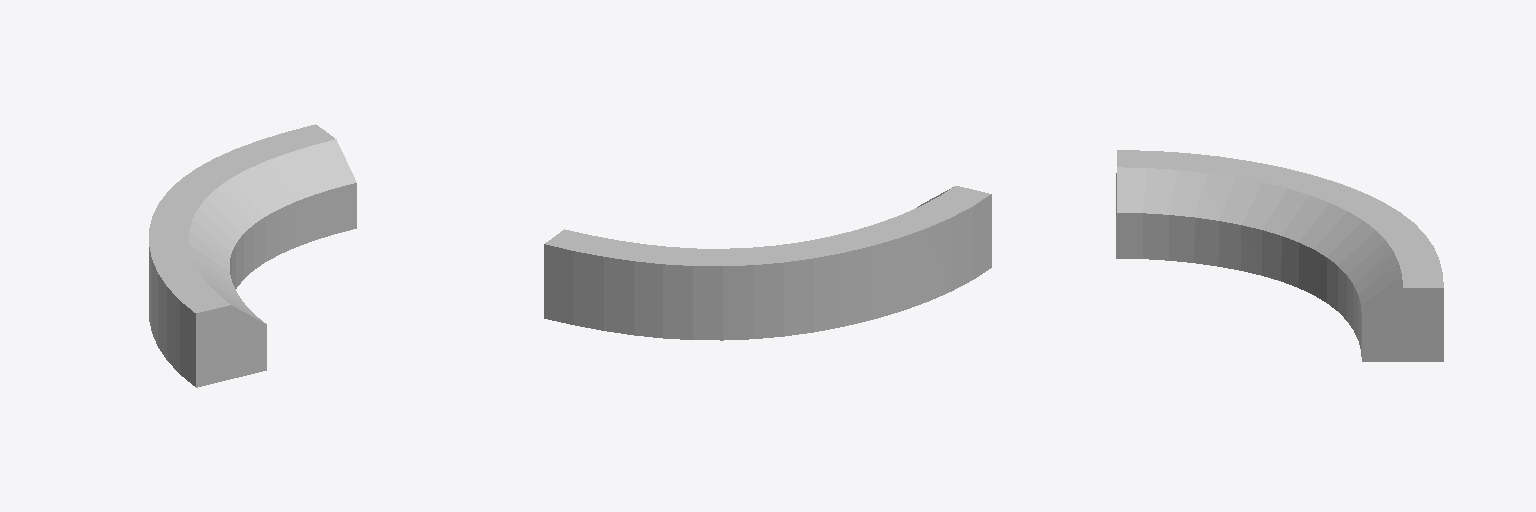
File: Outside Bend_LP.obj
3 views of the same model, side by side, from view 1: azimuth 30°, elevation 25°; view 2: azimuth 150°, elevation 25°; view 3: azimuth 270°, elevation 25° (orthographic).
Parts seen in each view (by area): view 1: Outside_Bend; view 2: Outside_Bend; view 3: Outside_Bend.
Boxes of the visible parts, <box> form: Outside_Bend: <box>149,124,356,387</box>; Outside_Bend: <box>544,186,991,340</box>; Outside_Bend: <box>1116,150,1443,361</box>.
Size of the model in its own units: 4 by 1 by 4.